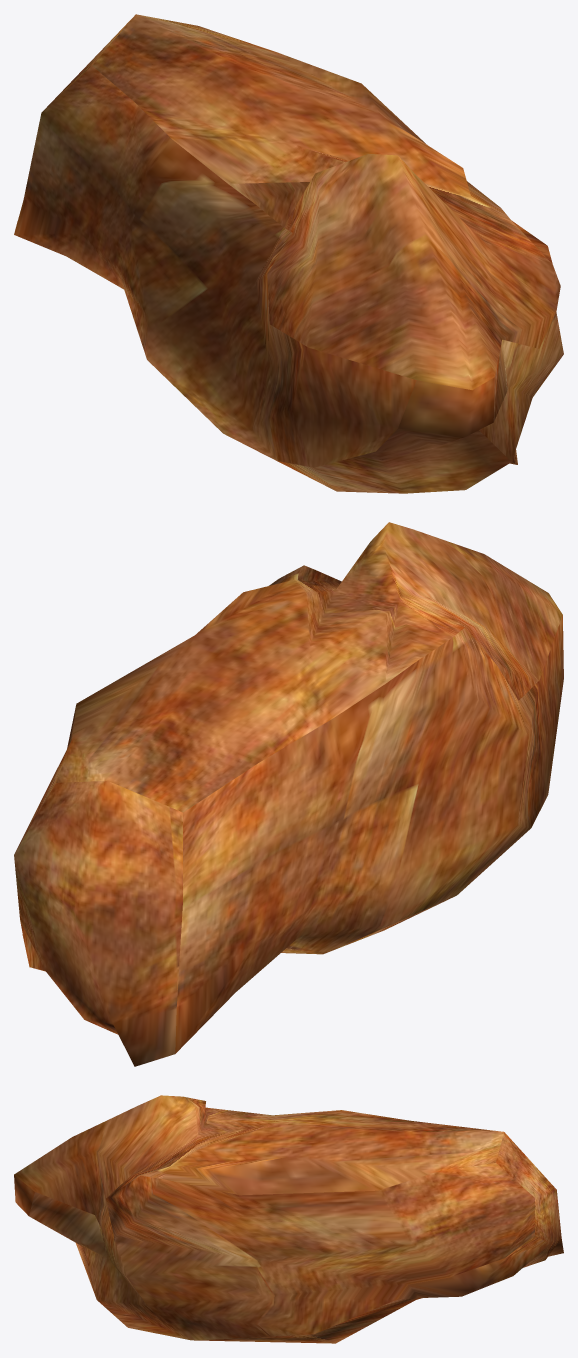
Rendered from rock_3.obj.
3 views of the same model, one above another, from view 1: azimuth 30°, elevation 25°; view 2: azimuth 150°, elevation 25°; view 3: azimuth 270°, elevation 25° (orthographic). The views are drawn at different scales.
Parts seen in each view (by area): view 1: pCube1; view 2: pCube1; view 3: pCube1.
Part boxes in pixels (box(x1,y1,x2,y2)): pCube1: box(14, 14, 563, 493); pCube1: box(14, 522, 563, 1066); pCube1: box(14, 1095, 563, 1343).
Bounding box in the file's own units: 1.9 × 2.13 × 4.89.
